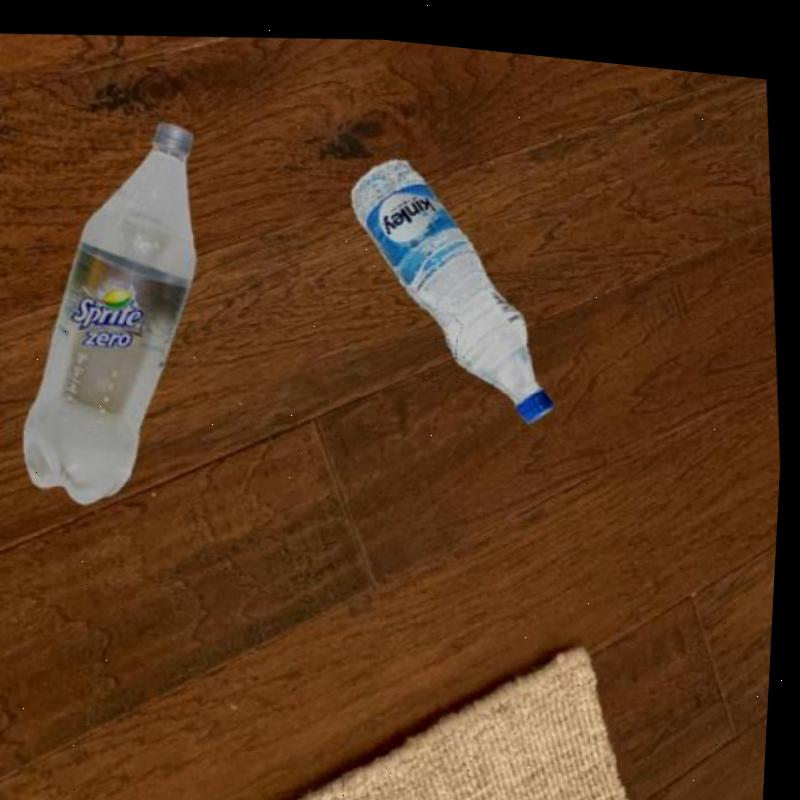botella: (0, 104, 232, 516), (336, 130, 569, 428)
